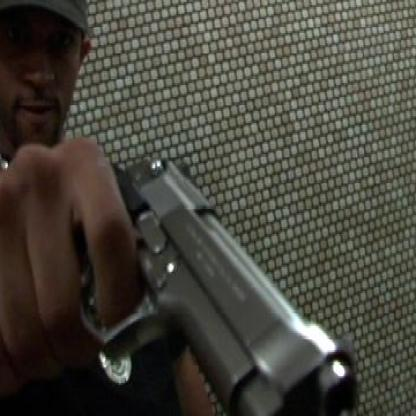gun: (54, 128, 378, 414)
